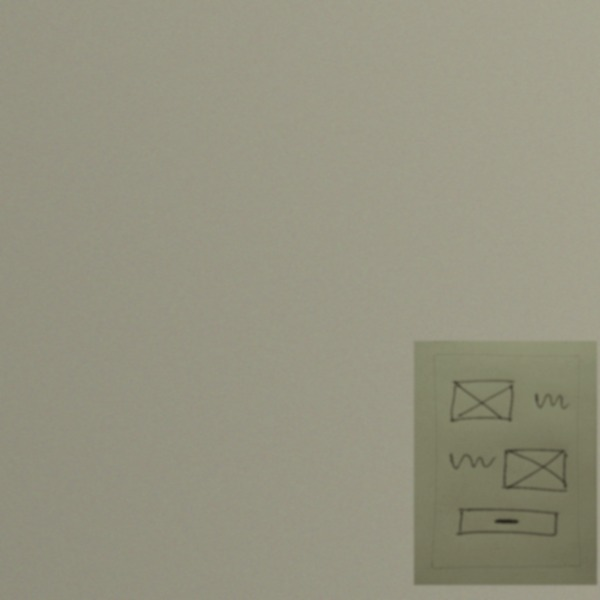button: (454, 505, 560, 541)
image: (501, 446, 570, 495), (449, 377, 515, 427)
text: (447, 450, 498, 477), (530, 390, 573, 414)
